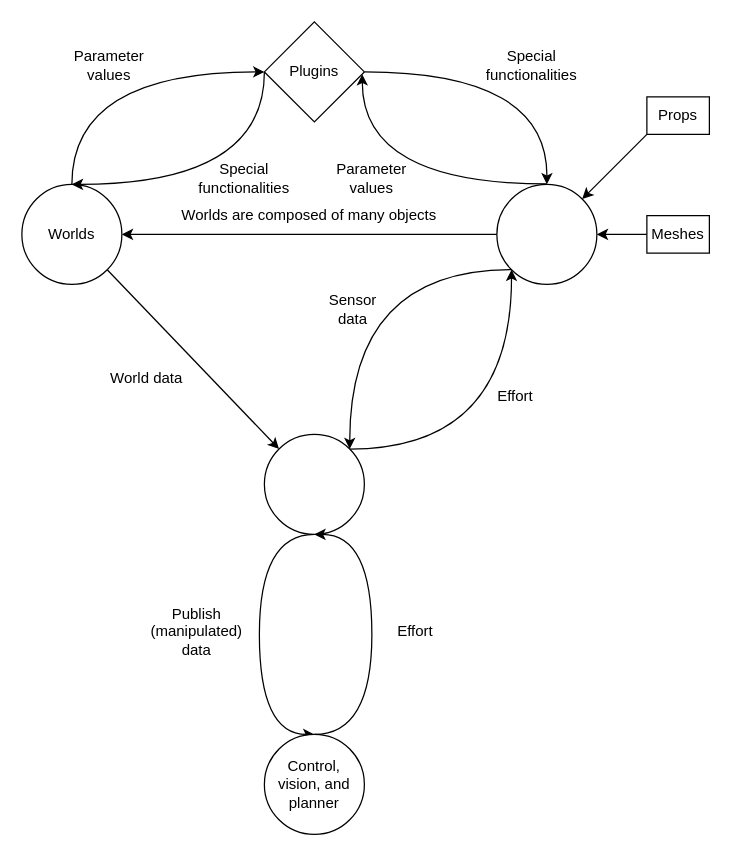
This 731x856 diagram has some shape labels left out. Each missing label, with the box of its shape:
Assets: (496, 183, 597, 284)
Src (bridge.py): (263, 433, 364, 534)
